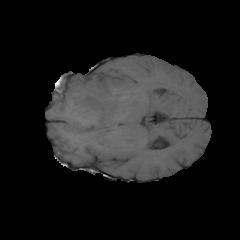glioma: (52, 73, 123, 127)
